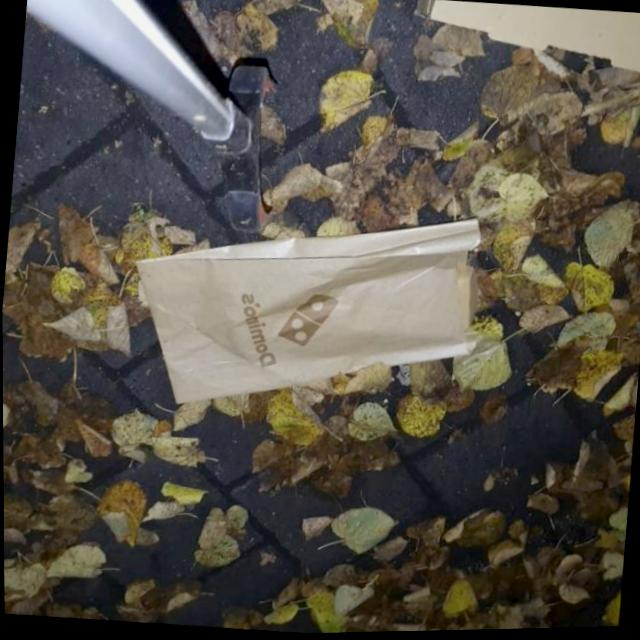Paper: (118, 188, 492, 433)
